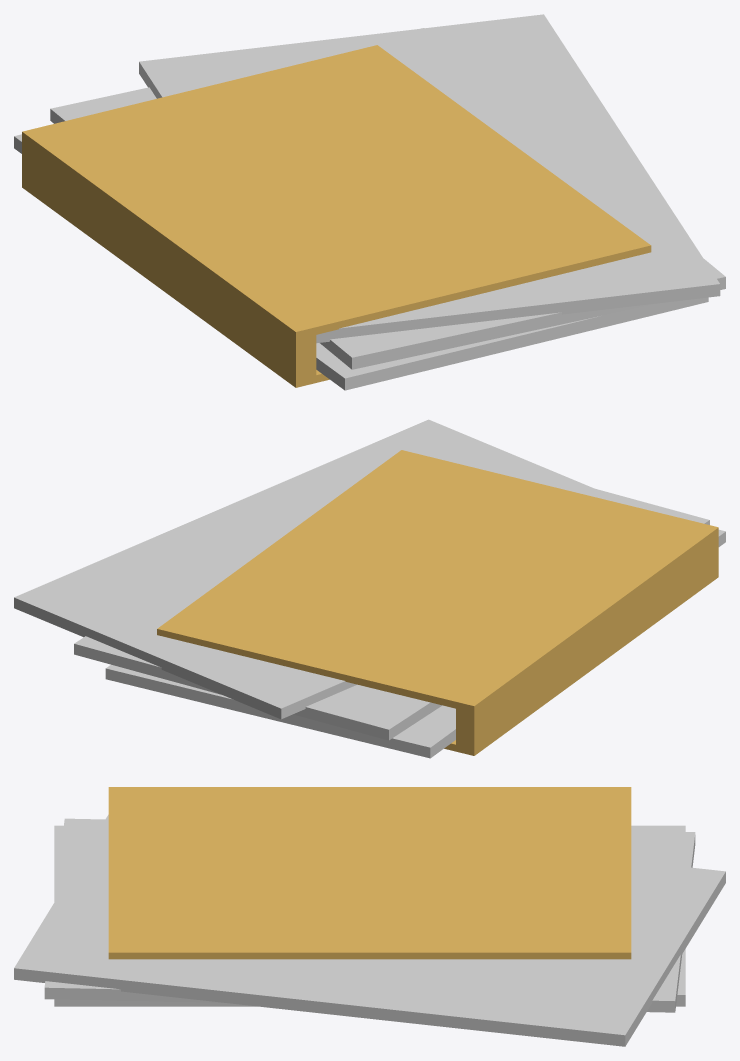
The model's file is autopsy report folder.fbx.
3 renders of one model, top to bottom at view 1: azimuth 30°, elevation 25°; view 2: azimuth 150°, elevation 25°; view 3: azimuth 270°, elevation 25°, orthographic. The views are drawn at different scales.
Visible parts, largest first — view 1: Cube.001, Cube.004, Cube.003, Cube.002; view 2: Cube.001, Cube.004, Cube.003, Cube.002; view 3: Cube.001, Cube.004, Cube.003, Cube.002.
Boxes of the visible parts, x1,y1,x2,y2 form: Cube.001: [22, 45, 651, 387]; Cube.004: [139, 14, 720, 343]; Cube.003: [50, 28, 725, 369]; Cube.002: [14, 134, 708, 390]; Cube.001: [157, 450, 718, 755]; Cube.004: [14, 419, 642, 719]; Cube.003: [74, 489, 709, 740]; Cube.002: [105, 529, 725, 758]; Cube.001: [108, 787, 631, 959]; Cube.004: [14, 814, 725, 1046]; Cube.003: [44, 818, 695, 1012]; Cube.002: [54, 825, 685, 1006].
Bounding box in the file's own units: 115 × 11.88 × 144.
